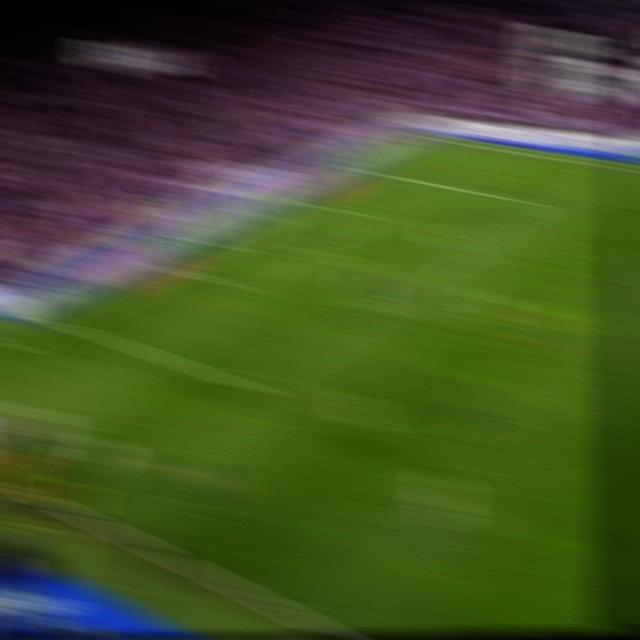bigarea_bottom_inner: (232, 371, 268, 403)
bigarea_bottom_outter: (38, 309, 73, 329)
bigarea_top_inner: (507, 192, 538, 210)
bigarea_top_outter: (355, 161, 384, 176)
bottom_arc_area_intersection: (347, 299, 381, 319)
corner: (418, 132, 448, 144)
smallarea_bottom_inner: (208, 273, 240, 293)
smallarea_top_inner: (337, 206, 368, 220)
top_arc_area_intersection: (442, 234, 474, 254)
